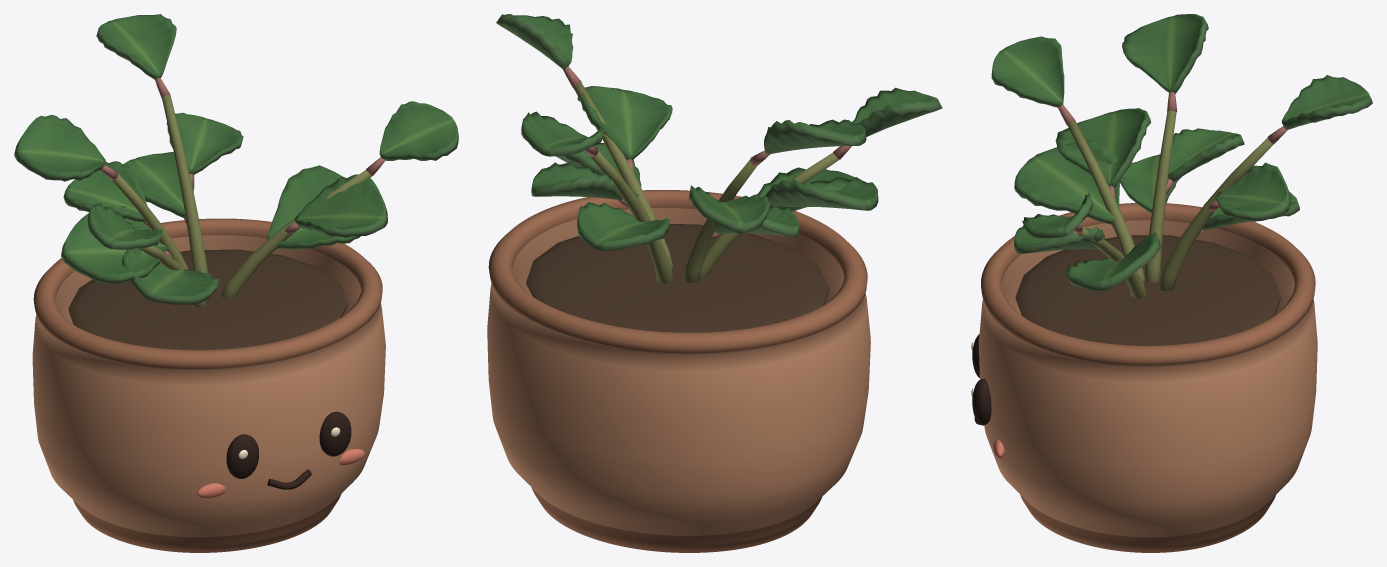
Rendered from baby-rubber-plant-v1.glb.
The picture shows the model from 3 angles, left to right: view 1: azimuth 30°, elevation 25°; view 2: azimuth 150°, elevation 25°; view 3: azimuth 270°, elevation 25°; orthographic projection. The views are drawn at different scales.
Visible parts, largest first — view 1: Wheel-thrown ceramic, Foliage draw mesh, Soil, Eye, Eye.001; view 2: Wheel-thrown ceramic, Foliage draw mesh, Soil; view 3: Wheel-thrown ceramic, Foliage draw mesh, Soil, Eye.001.
Boxes of the visible parts, x1=… form: Wheel-thrown ceramic: x1=32, y1=218, x2=385, y2=552; Foliage draw mesh: x1=14, y1=14, x2=458, y2=306; Soil: x1=68, y1=249, x2=347, y2=350; Eye: x1=226, y1=434, x2=258, y2=478; Eye.001: x1=319, y1=411, x2=351, y2=456; Wheel-thrown ceramic: x1=487, y1=190, x2=870, y2=552; Foliage draw mesh: x1=496, y1=14, x2=942, y2=283; Soil: x1=526, y1=224, x2=829, y2=332; Wheel-thrown ceramic: x1=978, y1=203, x2=1317, y2=552; Foliage draw mesh: x1=991, y1=14, x2=1372, y2=298; Soil: x1=1015, y1=235, x2=1280, y2=345; Eye.001: x1=972, y1=378, x2=991, y2=425.
Bounding box in the file's own units: 2.01 × 2.04 × 1.77.
